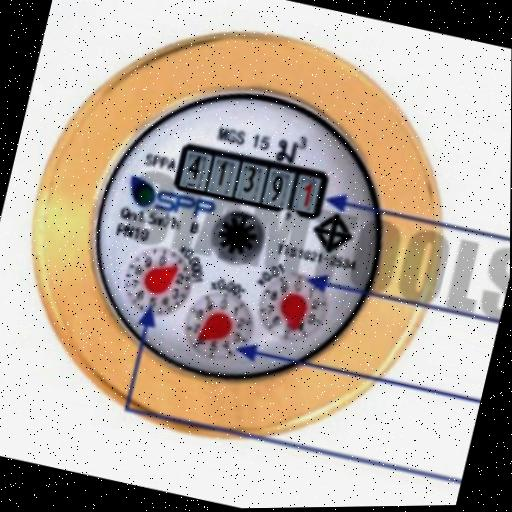1: (211, 160, 233, 196), (297, 179, 318, 213)
3: (238, 166, 262, 201)
4: (182, 155, 206, 190)
9: (267, 173, 289, 208)
border_water_meter_number: (172, 140, 331, 224)
